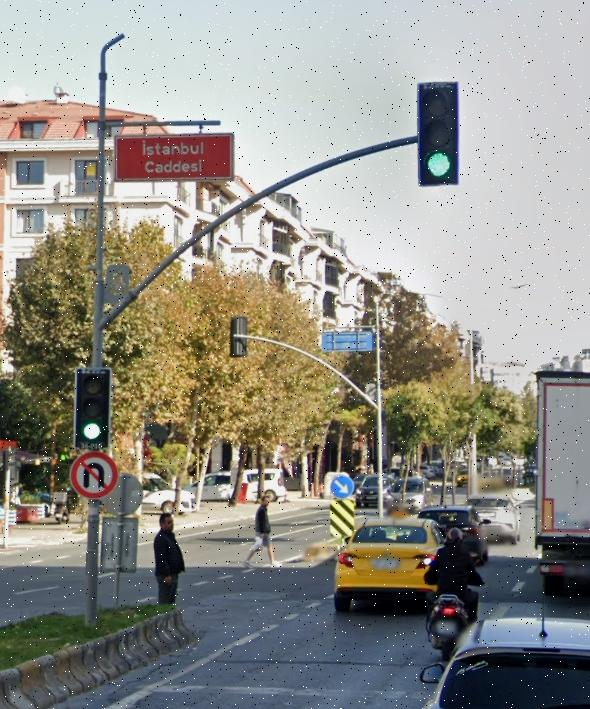greenlight: (416, 80, 460, 185), (77, 369, 111, 449)
